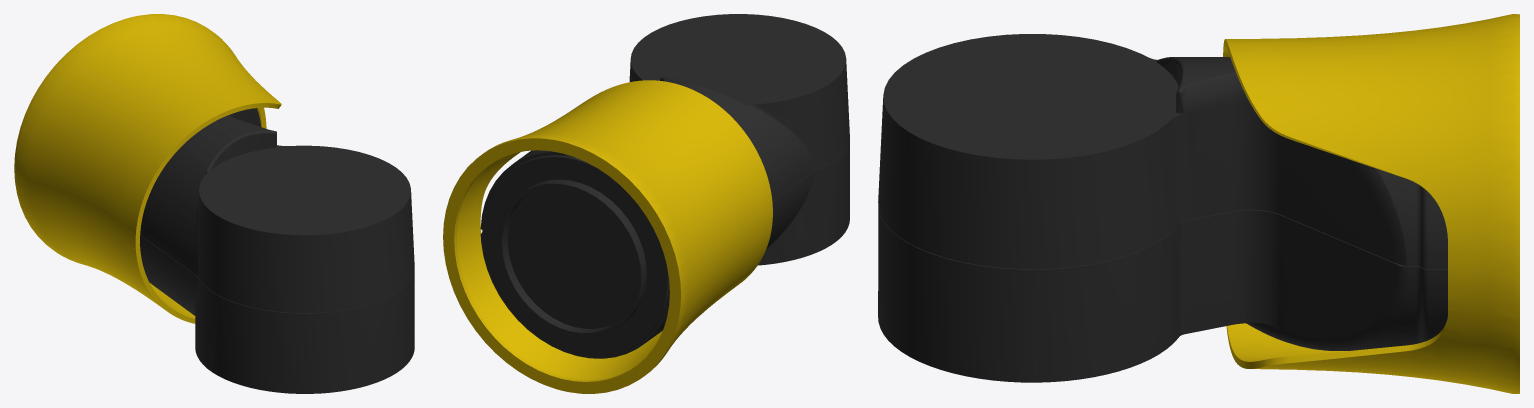
Rendered from arml3.glb.
3 renders of one model, left to right at view 1: azimuth 30°, elevation 25°; view 2: azimuth 150°, elevation 25°; view 3: azimuth 270°, elevation 25°, orthographic. The views are drawn at different scales.
Visible parts, largest first — view 1: left_j3; view 2: left_j3; view 3: left_j3.
Boxes of the visible parts, x1,y1,x2,y2 form: left_j3: (14, 14, 414, 393); left_j3: (443, 14, 849, 393); left_j3: (878, 14, 1519, 393).
Bounding box in the file's own units: 0.106 × 0.106 × 0.179.
